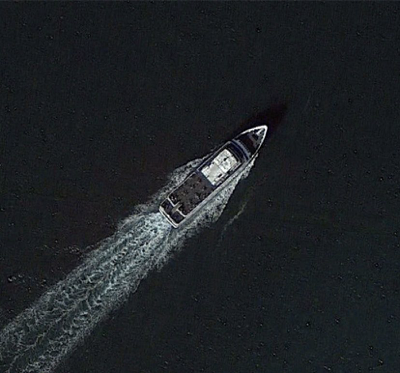boat: (158, 124, 270, 228)
